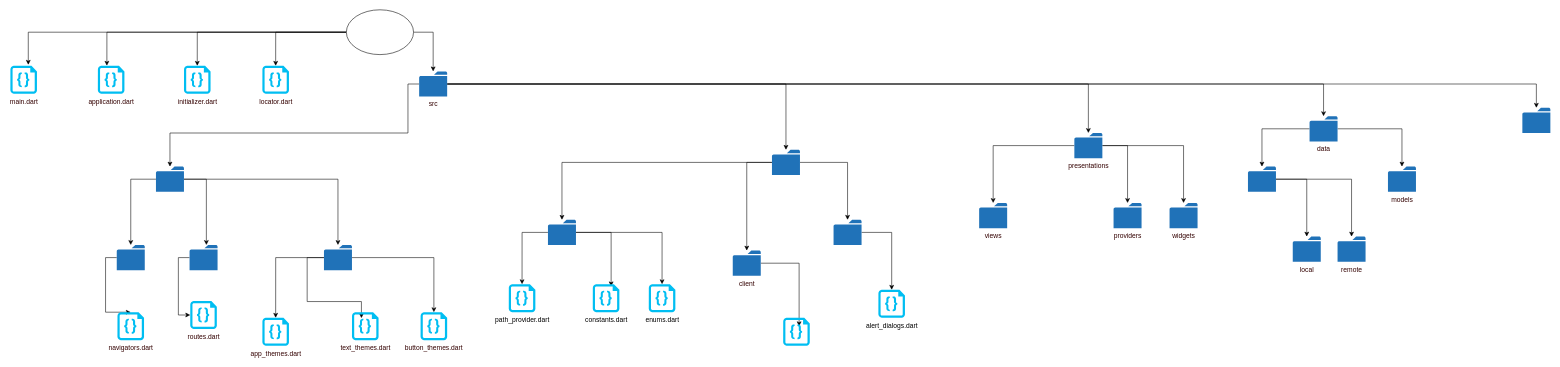
Some shapes in this 1560 by 367 pixel diagram are drawn without their labels. Here are the shapes that lost their labels. From the top down, the centre of each, then its label:
At point 380,32: "Project".
At point 1536,120: "logics".
At point 170,179: "config".
At point 786,162: "core".
At point 1262,179: "datasources".
At point 562,232: "utils".
At point 847,232: "dialogs".
At point 130,257: "navigators".
At point 203,257: "routes".
At point 338,257: "themes".
At point 796,332: "client.dart".
